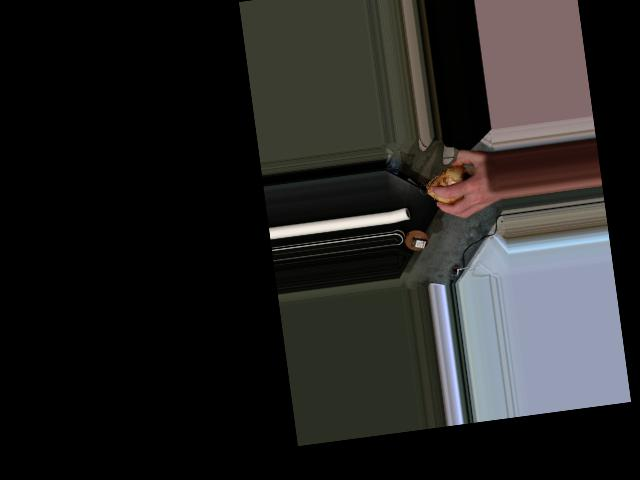onion: (425, 163, 472, 205)
